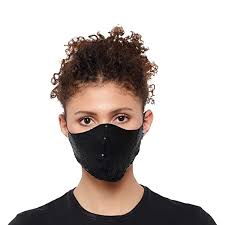with-mask: (56, 36, 157, 185)
